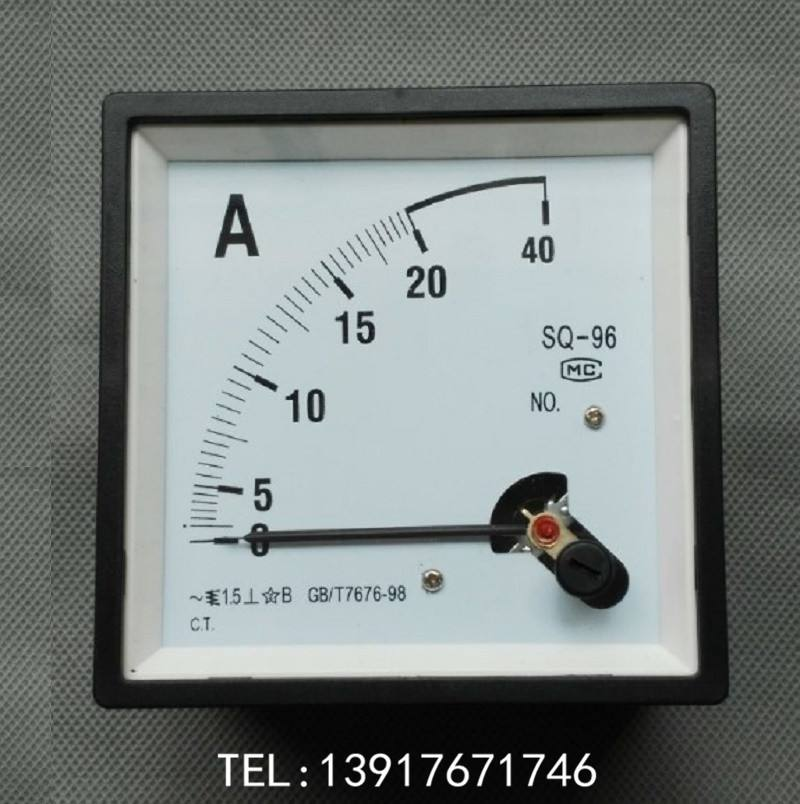pointer: (126, 113, 702, 677)
